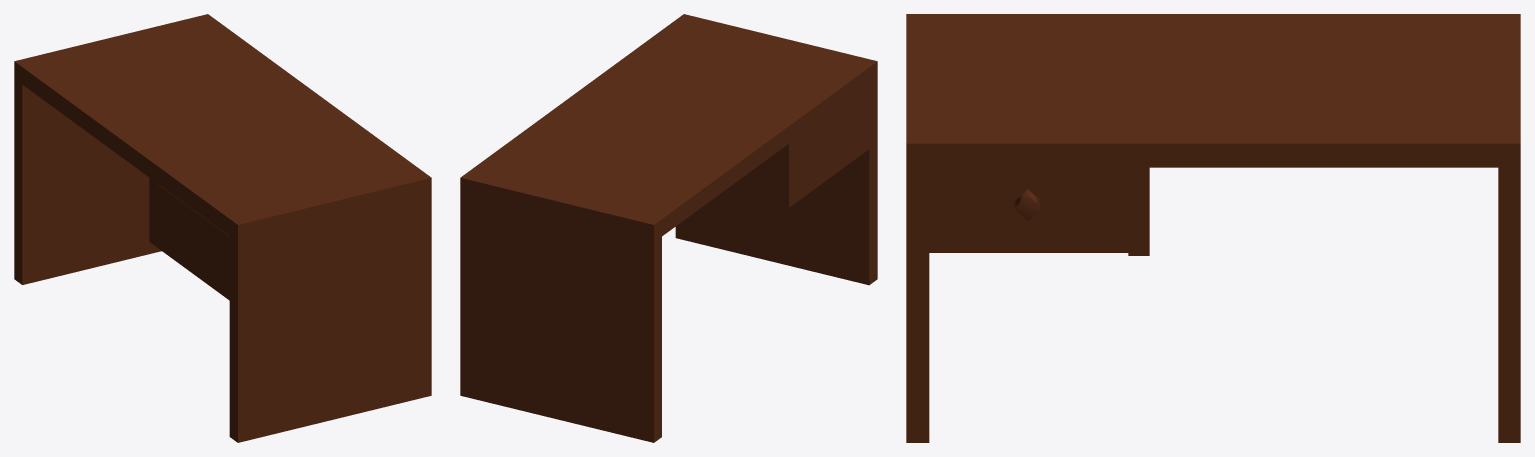
The model's file is f_bedroom_desk.fbx.
The picture shows the model from 3 angles, left to right: view 1: azimuth 30°, elevation 25°; view 2: azimuth 150°, elevation 25°; view 3: azimuth 270°, elevation 25°; orthographic projection. The views are drawn at different scales.
Parts seen in each view (by area): view 1: desk, draw; view 2: desk, draw; view 3: desk, draw.
Part boxes in pixels (x1,y1,x2,y2): desk: (14,14,431,442); draw: (157,183,229,300); desk: (460,14,877,442); draw: (797,85,869,201); desk: (906,14,1520,442); draw: (929,167,1128,252).
Bounding box in the file's own units: 51.83 × 53.77 × 100.
Materials: 1 (1 with a texture image).
